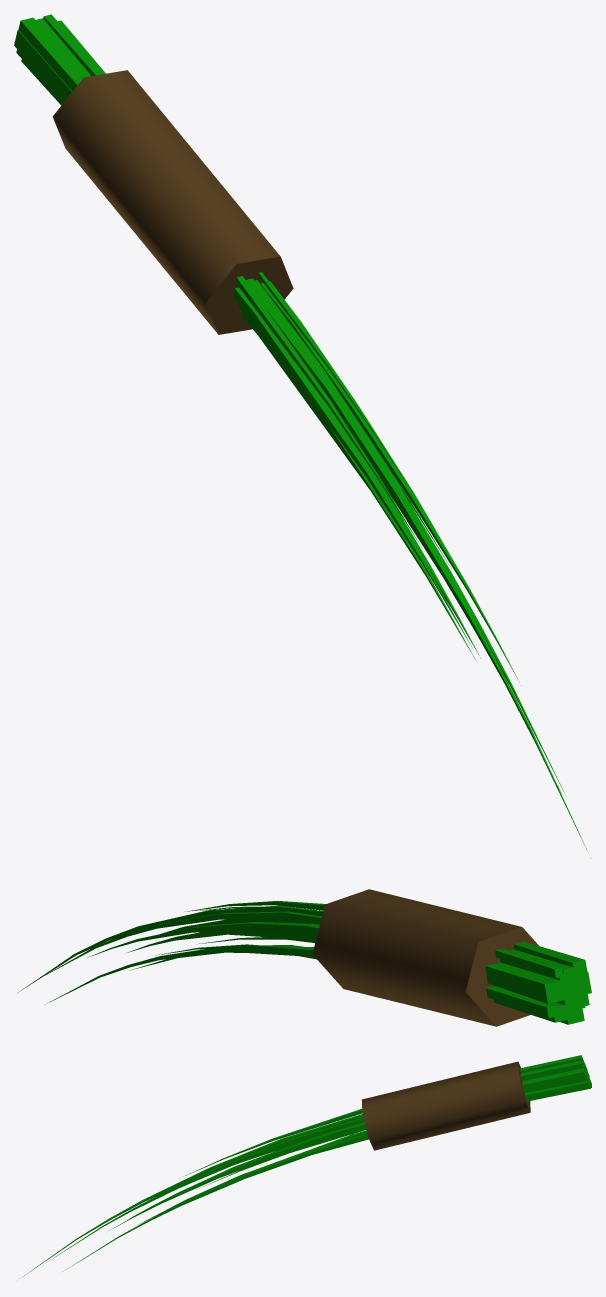
The model's file is PickUp_Herbes.FBX.
3 views of the same model, one above another, from view 1: azimuth 30°, elevation 25°; view 2: azimuth 210°, elevation 25°; view 3: azimuth 270°, elevation 25° (orthographic). The views are drawn at different scales.
Parts seen in each view (by area): view 1: Cylinder001, Pyramid004; view 2: Cylinder001, Pyramid004; view 3: Cylinder001, Pyramid004.
Part boxes in pixels (x1=…): Cylinder001: x1=52, y1=70, x2=293, y2=334; Pyramid004: x1=14, y1=14, x2=588, y2=853; Cylinder001: x1=312, y1=889, x2=538, y2=1026; Pyramid004: x1=18, y1=901, x2=591, y2=1024; Cylinder001: x1=361, y1=1061, x2=530, y2=1150; Pyramid004: x1=23, y1=1055, x2=591, y2=1276.
Size of the model in its own units: 1.2 by 5.64 by 13.19.
